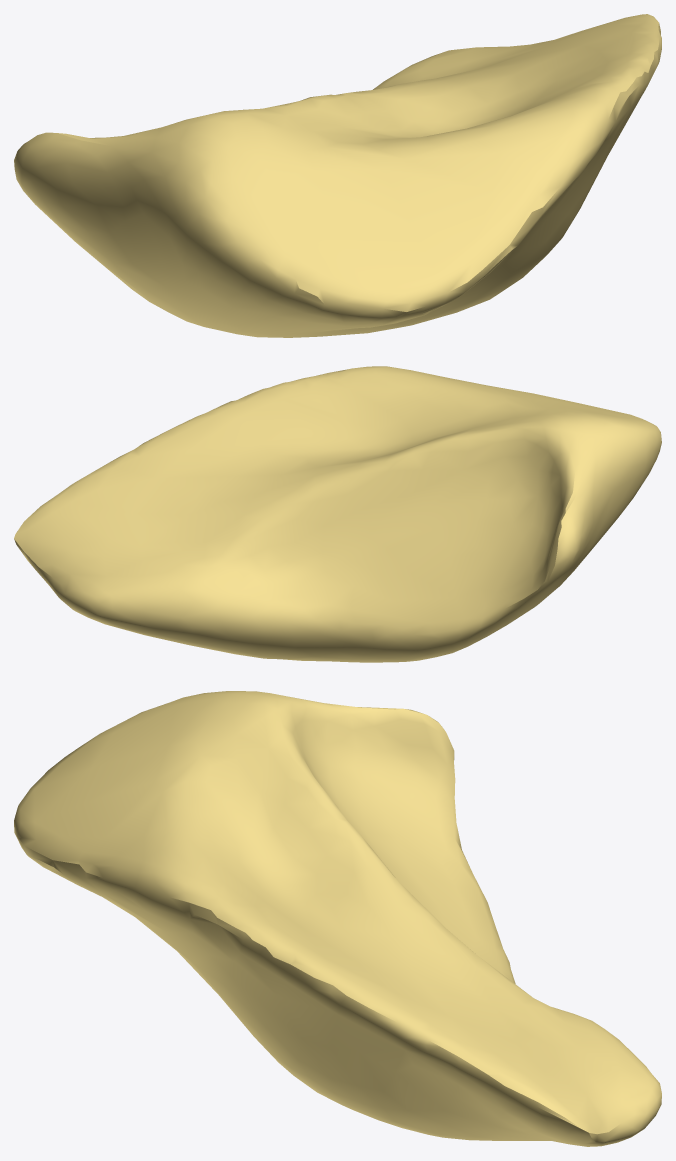
File: fma77613-l_mm2861.glb
The picture shows the model from 3 angles, top to bottom: view 1: azimuth 30°, elevation 25°; view 2: azimuth 150°, elevation 25°; view 3: azimuth 270°, elevation 25°; orthographic projection. The views are drawn at different scales.
Parts seen in each view (by area): view 1: FMA77613-L_MM2861; view 2: FMA77613-L_MM2861; view 3: FMA77613-L_MM2861.
Boxes of the visible parts, x1,y1,x2,y2 form: FMA77613-L_MM2861: [14, 14, 661, 337]; FMA77613-L_MM2861: [14, 366, 661, 662]; FMA77613-L_MM2861: [14, 691, 661, 1146].
Size of the model in its own units: 0.00993 by 0.00419 by 0.00857.
